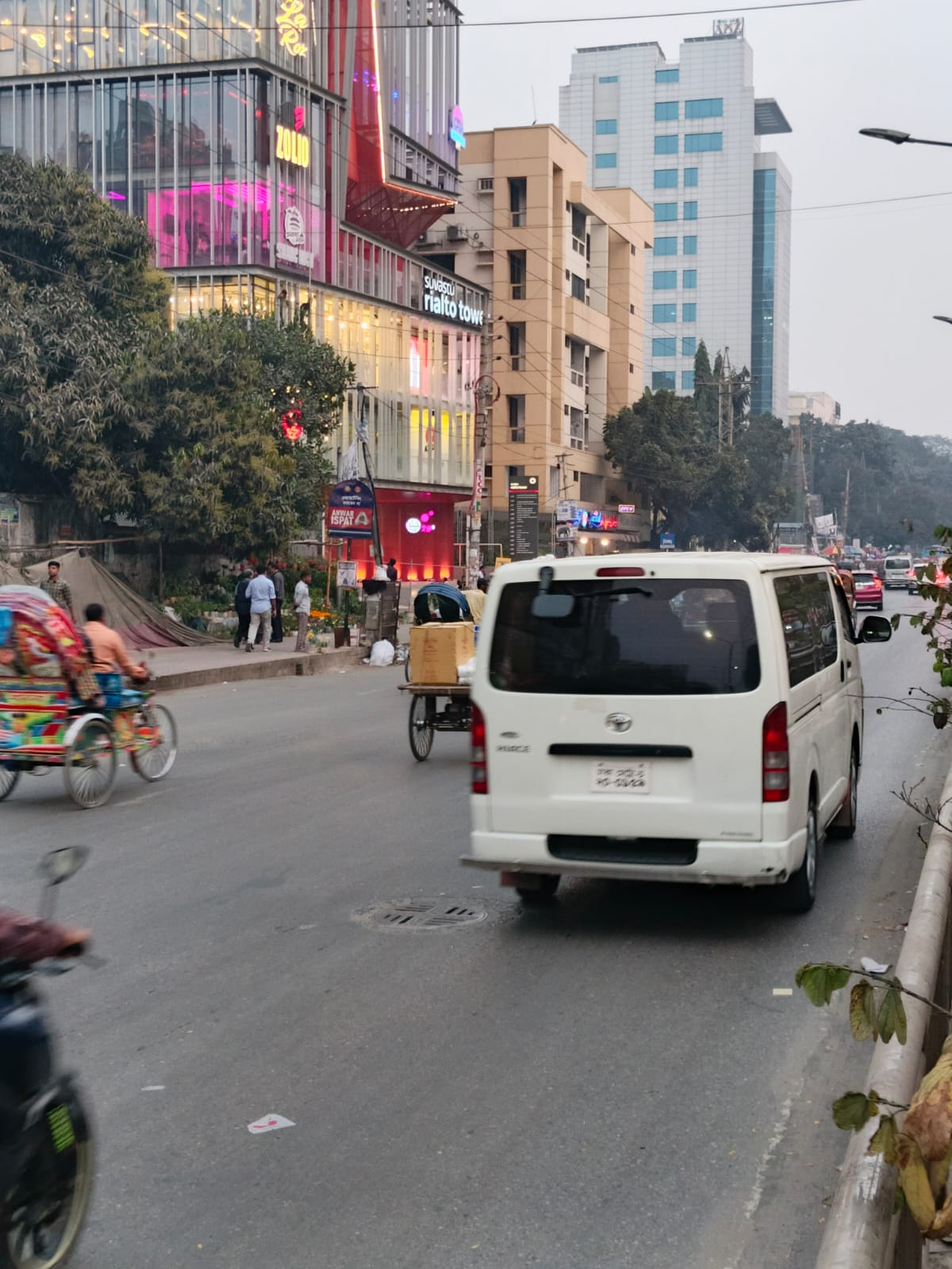Bikes: (0, 852, 389, 1269)
auto-ricksaw: (8, 545, 205, 830), (344, 590, 499, 722)
private car: (468, 490, 952, 919), (857, 542, 952, 623)
